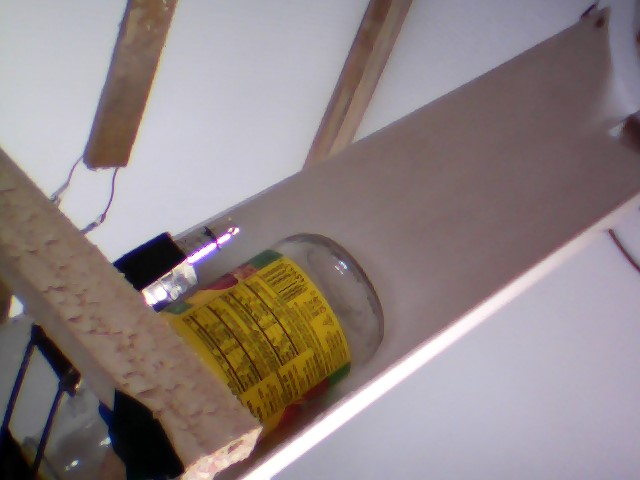vidrio: (183, 228, 398, 445)
